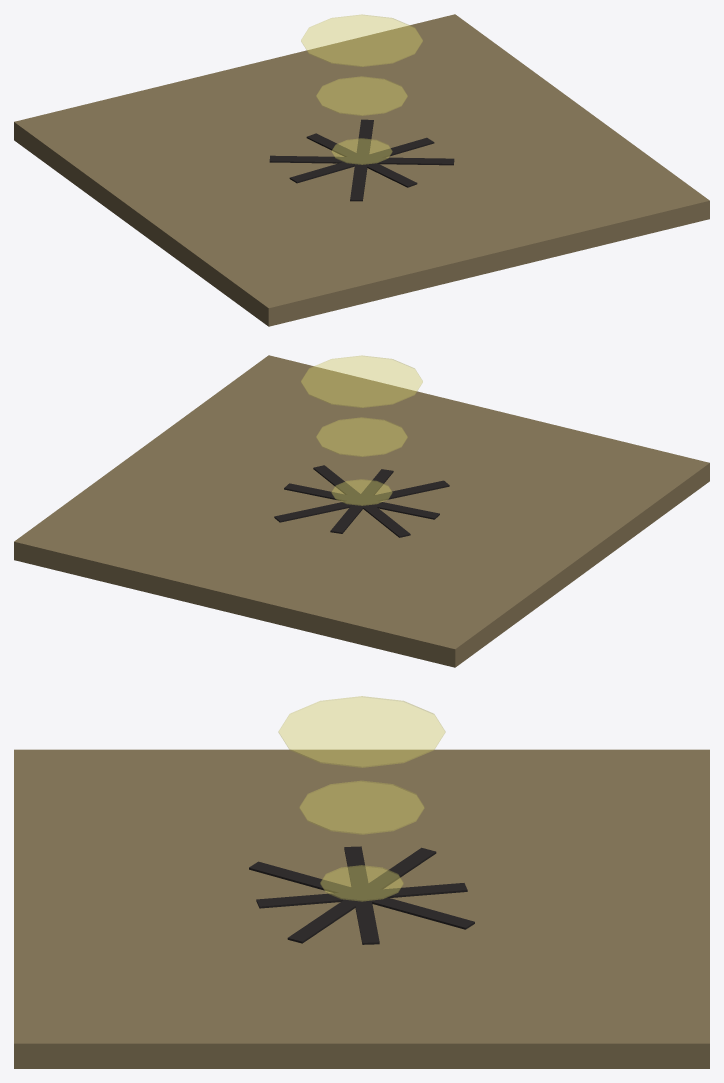
Rendered from Deposit_Gas_Mining.fbx.
3 views of the same model, one above another, from view 1: azimuth 30°, elevation 25°; view 2: azimuth 150°, elevation 25°; view 3: azimuth 270°, elevation 25° (orthographic). The views are drawn at different scales.
Visible parts, largest first — view 1: Deposit_Gas_Mining_Body; view 2: Deposit_Gas_Mining_Body; view 3: Deposit_Gas_Mining_Body.
Boxes of the visible parts, left/top/right/bottom form: Deposit_Gas_Mining_Body: left=14, top=14, right=709, bottom=326; Deposit_Gas_Mining_Body: left=14, top=355, right=709, bottom=667; Deposit_Gas_Mining_Body: left=14, top=696, right=709, bottom=1068.
Size of the model in its own units: 1 by 0.302 by 1.
